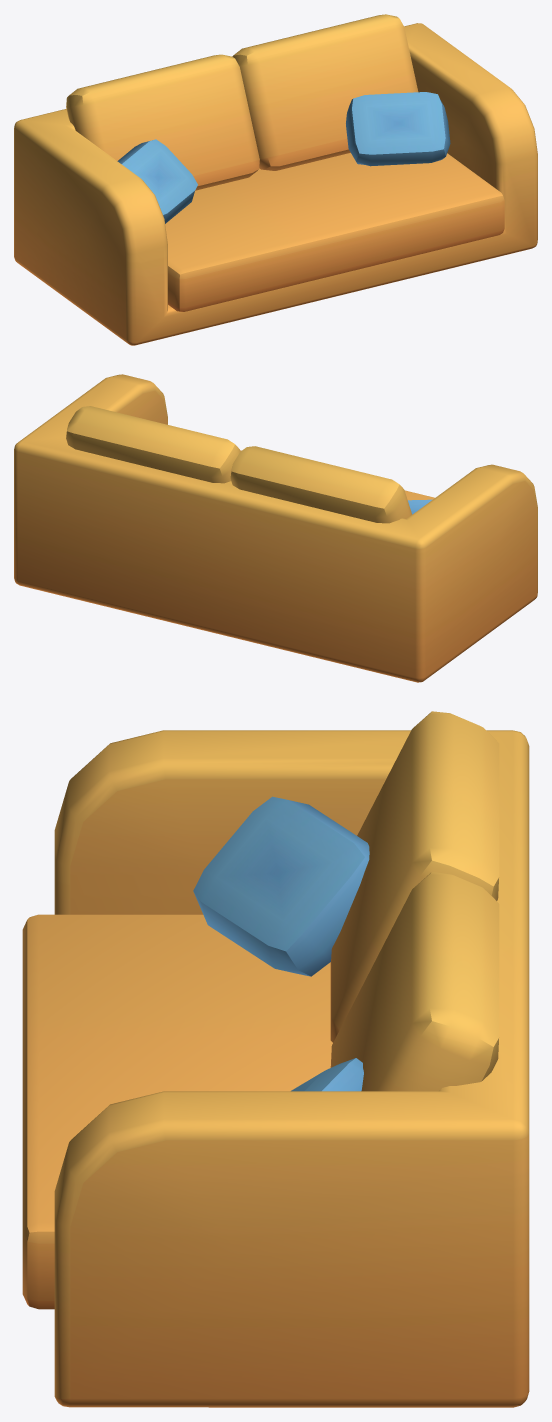
File: couch-pillows.glb
3 renders of one model, top to bottom at view 1: azimuth 30°, elevation 25°; view 2: azimuth 150°, elevation 25°; view 3: azimuth 270°, elevation 25°, orthographic. The views are drawn at different scales.
Parts seen in each view (by area): view 1: couch_pillows; view 2: couch_pillows; view 3: couch_pillows.
Boxes of the visible parts, x1,y1,x2,y2 form: couch_pillows: (14,14,537,345); couch_pillows: (14,374,537,682); couch_pillows: (22,711,529,1407).
Bounding box in the file's own units: 3 × 1.22 × 1.6.
1 material, 1 textured.
